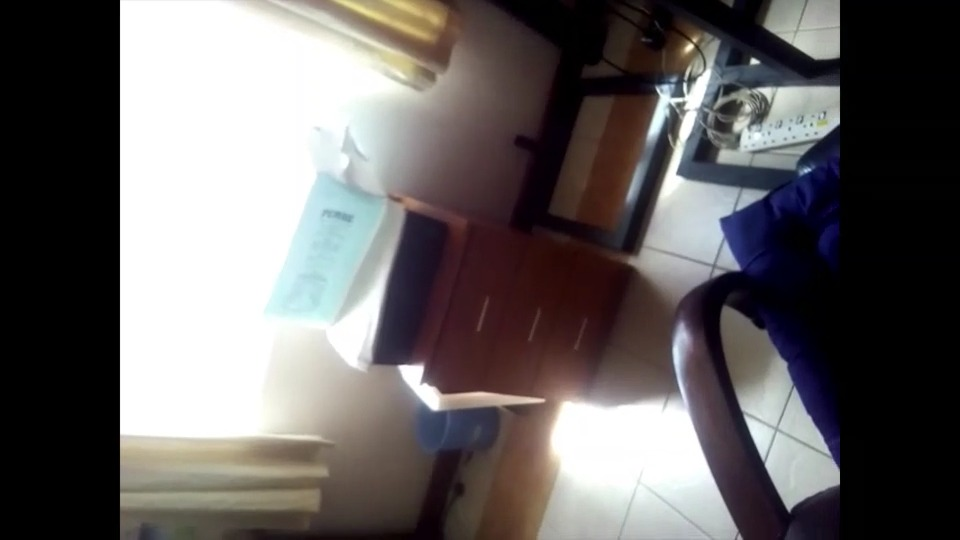wheat_flour_blue_label: (267, 127, 391, 327)
